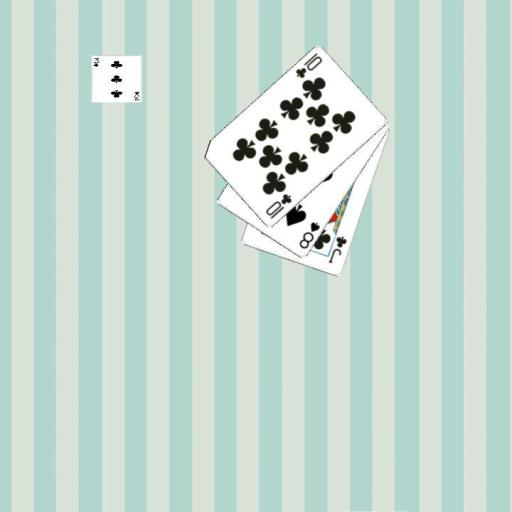10C: (292, 50, 324, 80), (262, 191, 293, 221)
8S: (296, 219, 321, 251)
JC: (326, 233, 349, 265)
